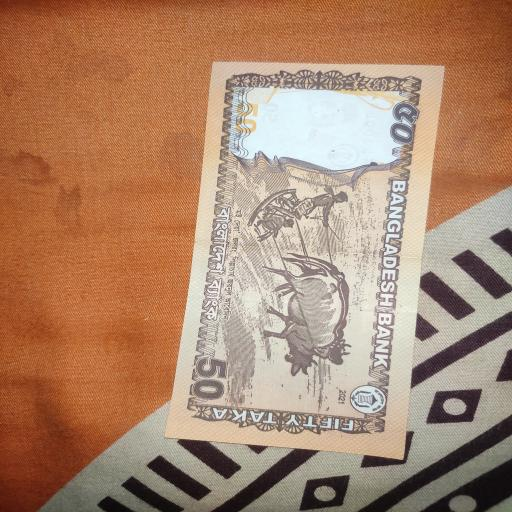50taka: (166, 63, 447, 461)
